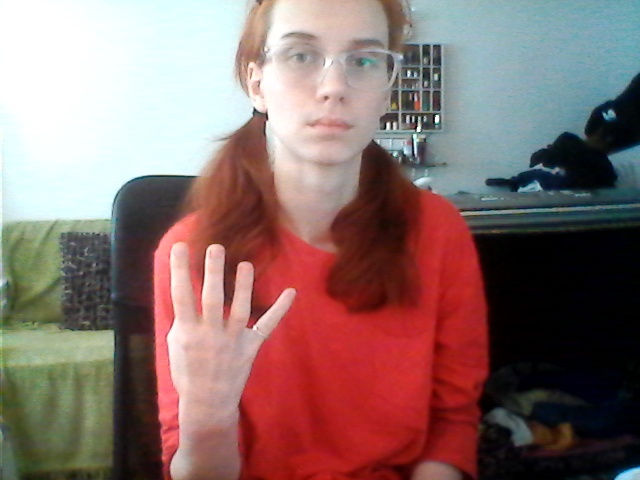kedy: (135, 235, 306, 411)
